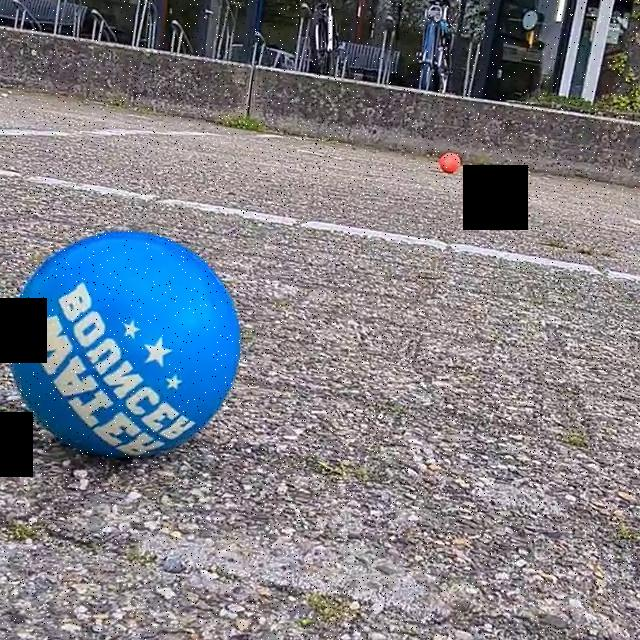ball: (435, 150, 461, 176)
